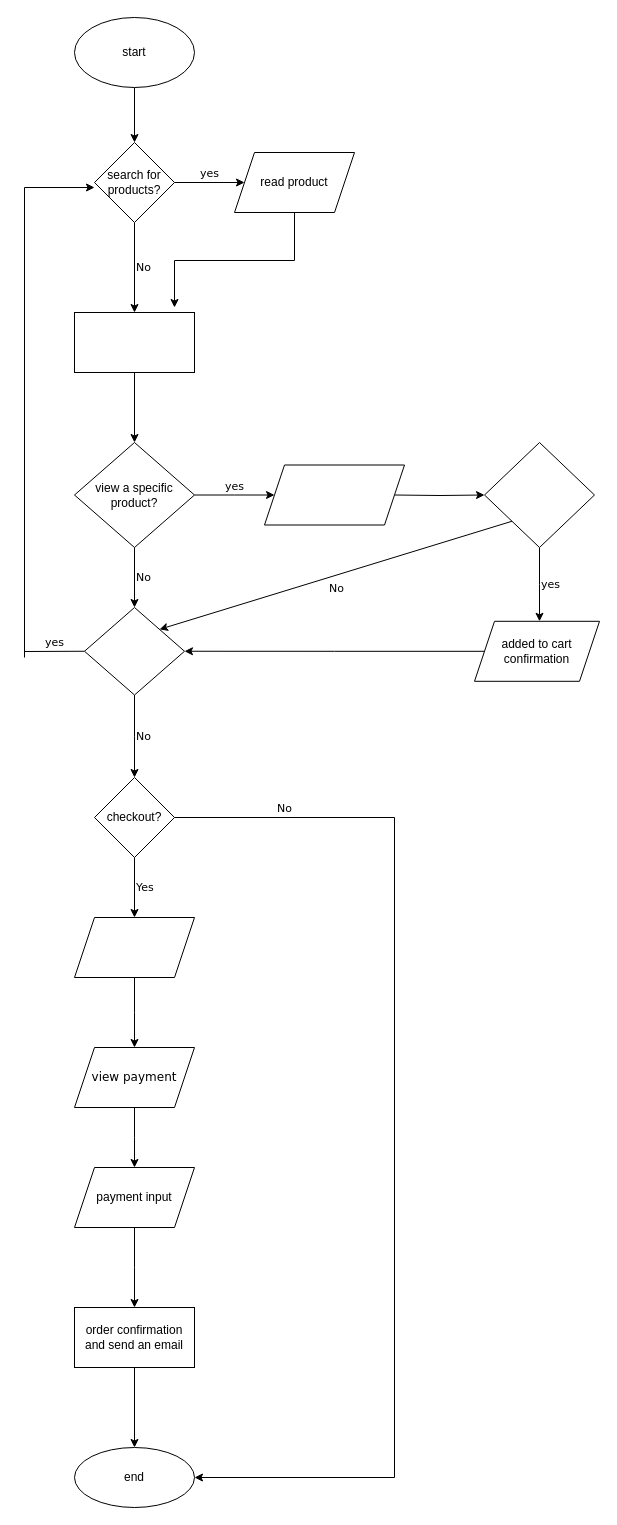
The diagram is 617 pixels wide and 1525 high, and some of its shapes have lost their labels. Each missing label, with the centre of its shape:
add this item to cart?: pixel 539 495
continue shopping?: pixel 134 650
look over products: pixel 134 342
product's webpage: pixel 334 494
view cart: pixel 134 947
